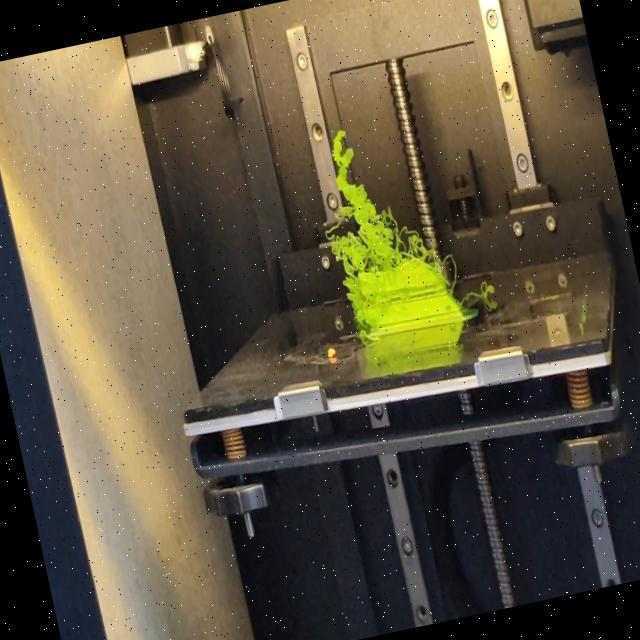spaghetti: (300, 113, 432, 284), (342, 278, 376, 348), (434, 245, 462, 292), (459, 278, 500, 304)
